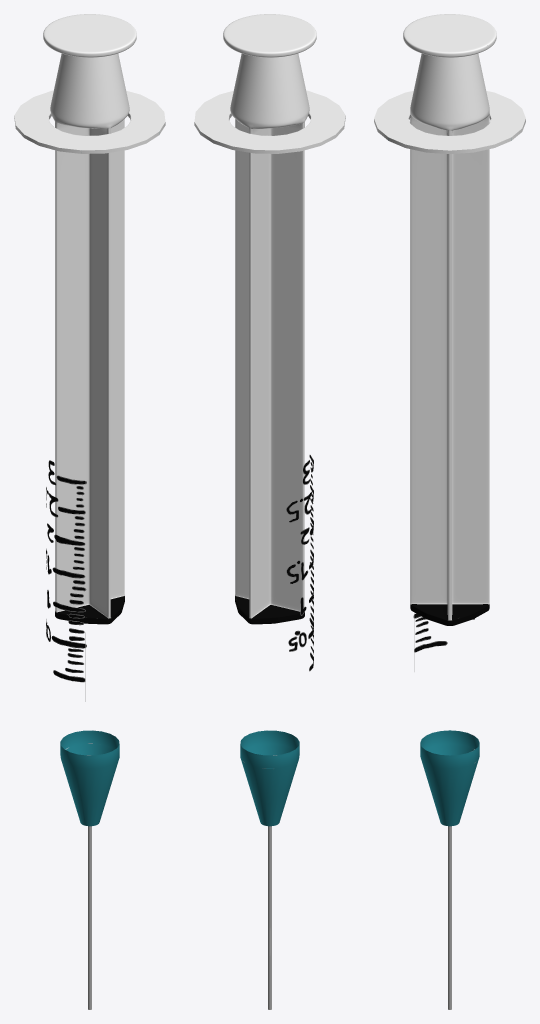
The model's file is Syringe.fbx.
3 views of the same model, side by side, from view 1: azimuth 30°, elevation 25°; view 2: azimuth 150°, elevation 25°; view 3: azimuth 270°, elevation 25° (orthographic).
Visible parts, largest first — view 1: Syringe_Plunger, Syringe_Base; view 2: Syringe_Plunger, Syringe_Base; view 3: Syringe_Plunger, Syringe_Base.
Boxes of the visible parts, bbox=[...] form: Syringe_Plunger: bbox=[43, 14, 136, 624]; Syringe_Base: bbox=[14, 90, 165, 1009]; Syringe_Plunger: bbox=[223, 14, 316, 624]; Syringe_Base: bbox=[194, 90, 345, 1009]; Syringe_Plunger: bbox=[403, 14, 496, 625]; Syringe_Base: bbox=[374, 91, 525, 1009].
Bounding box in the file's own units: 0.0532 × 0.3772 × 0.0532.
Materials: 2 (2 with a texture image).
